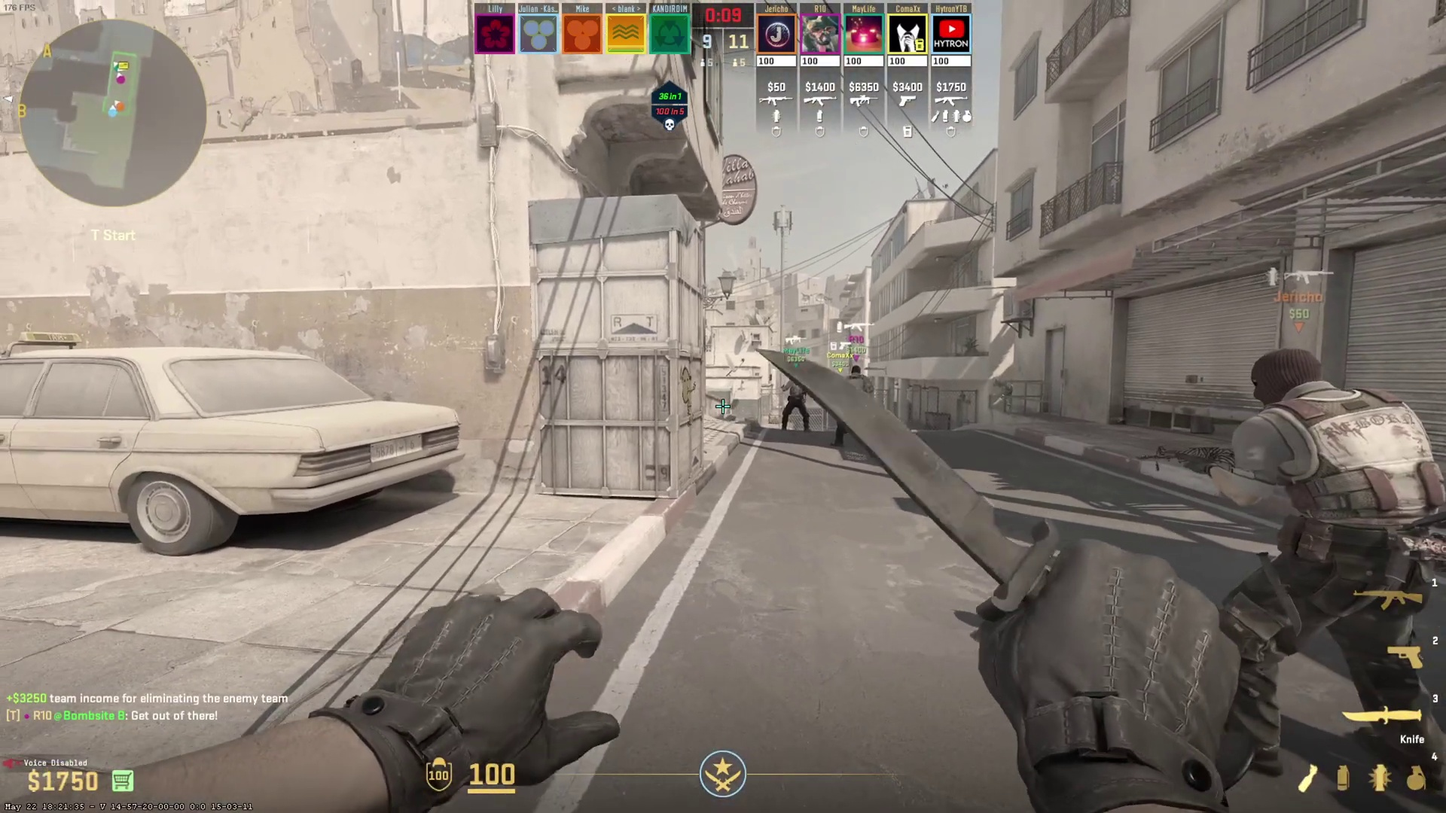Terrorist: (1238, 341, 1428, 779), (842, 360, 871, 457), (779, 372, 810, 433)
